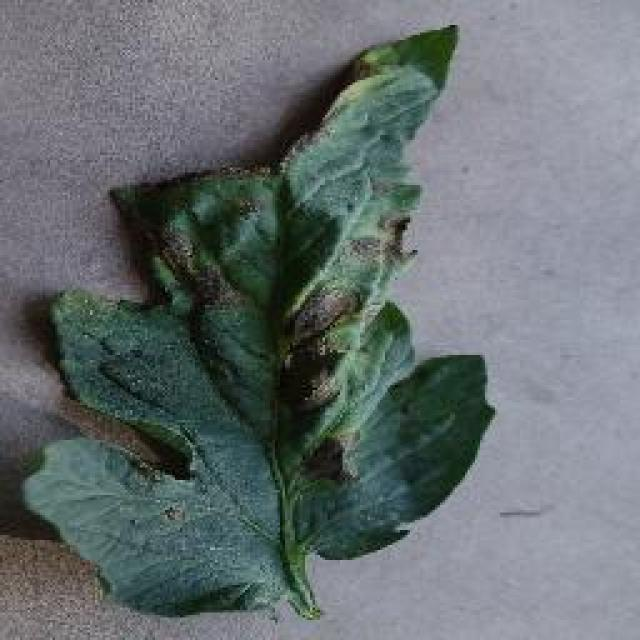Tomato Early blight leaf: (38, 31, 482, 619)
